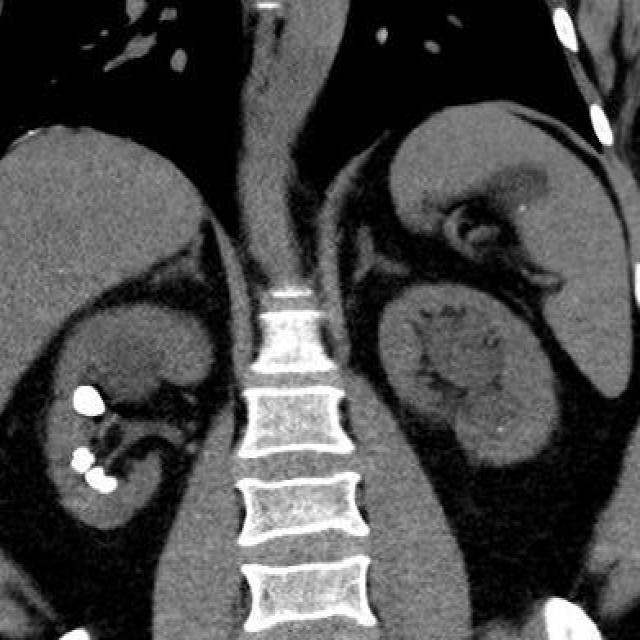Tas_Var: (82, 463, 128, 497), (70, 381, 108, 419), (64, 444, 100, 474), (493, 422, 510, 440)
